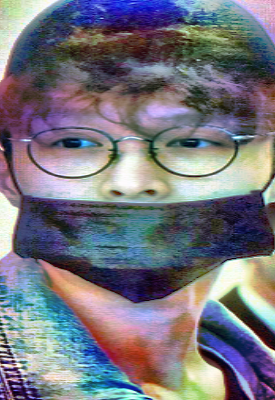mask_weared_incorrect: (10, 107, 275, 304)
